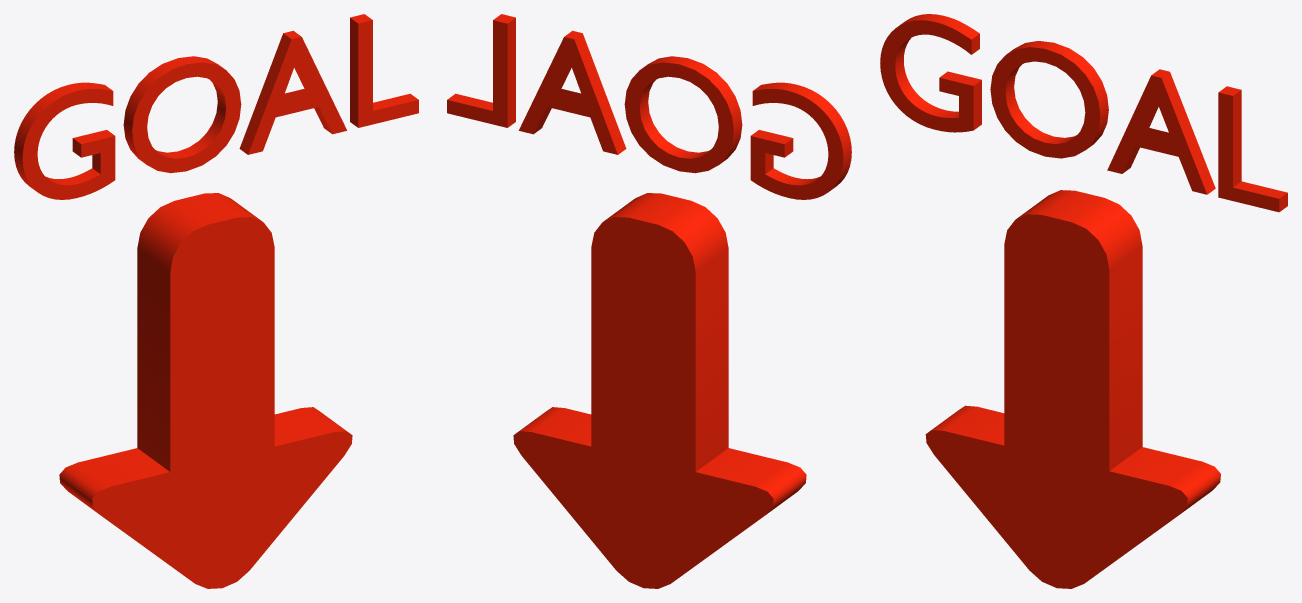
File: arrow (1).fbx
The picture shows the model from 3 angles, left to right: view 1: azimuth 30°, elevation 25°; view 2: azimuth 150°, elevation 25°; view 3: azimuth 330°, elevation 25°; orthographic projection.
Parts seen in each view (by area): view 1: 큐브; view 2: 큐브; view 3: 큐브.
Part boxes in pixels (<box>): 큐브: <box>14,14,418,588</box>; 큐브: <box>447,14,851,588</box>; 큐브: <box>880,14,1287,588</box>.
Bounding box in the file's own units: 270 × 339 × 38.89.
Materials: 1 (1 with a texture image).
